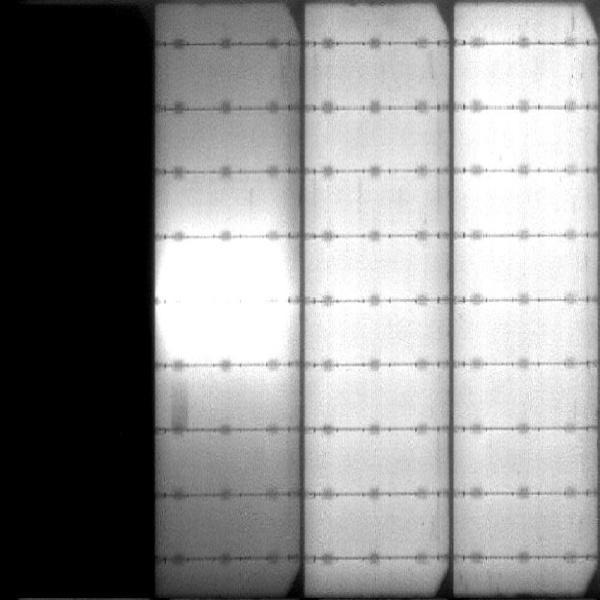hot_spot: (160, 246, 290, 296), (158, 304, 284, 353)
no_electricity: (1, 1, 156, 593)
